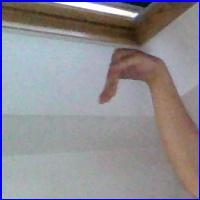del: (97, 40, 170, 108)
